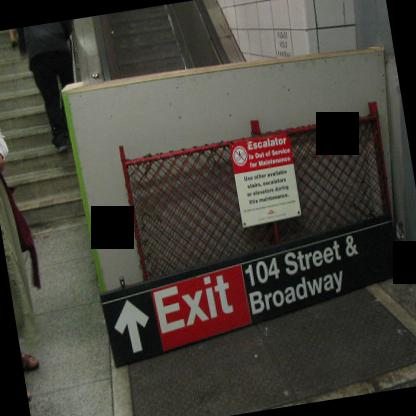handbag: (0, 173, 41, 289)
